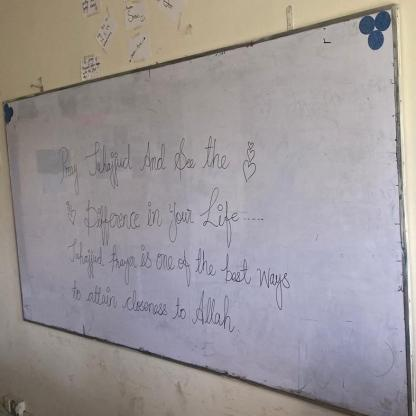Handwritten text: (60, 235, 298, 302), (50, 124, 238, 197), (64, 279, 246, 341), (78, 183, 246, 244)
